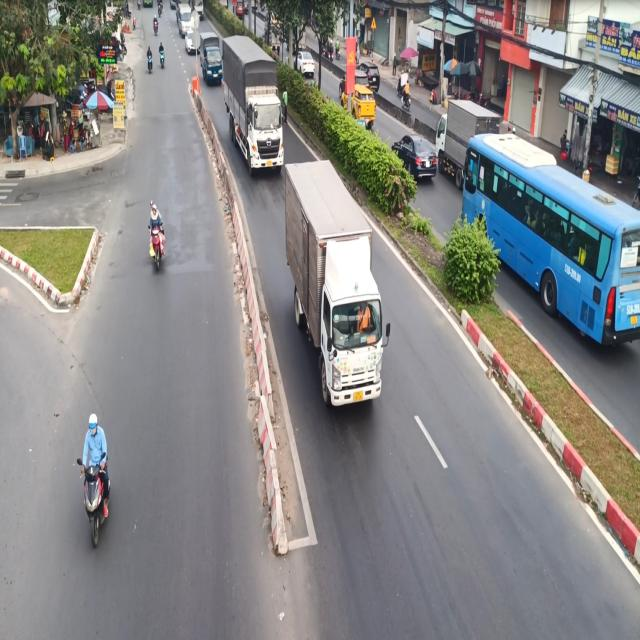bus: (465, 126, 640, 342)
motor: (79, 409, 114, 551), (142, 199, 174, 269)
truck: (281, 156, 392, 420), (224, 35, 286, 174)
